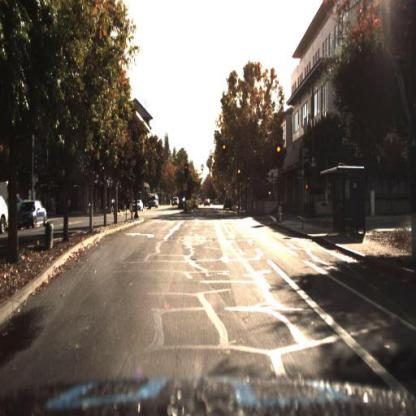car: (17, 198, 54, 231), (18, 197, 51, 233), (148, 194, 160, 211), (170, 195, 181, 213), (132, 200, 146, 214), (134, 200, 144, 213), (223, 200, 233, 213), (172, 195, 180, 210)
trafficLight: (221, 141, 229, 157)
trafficLight-Red: (277, 144, 283, 164), (237, 164, 244, 179), (183, 162, 189, 177)
trafficLight-RedLeft: (184, 163, 192, 180)
trafficLight-Yellow: (275, 129, 285, 159), (236, 161, 242, 180)
